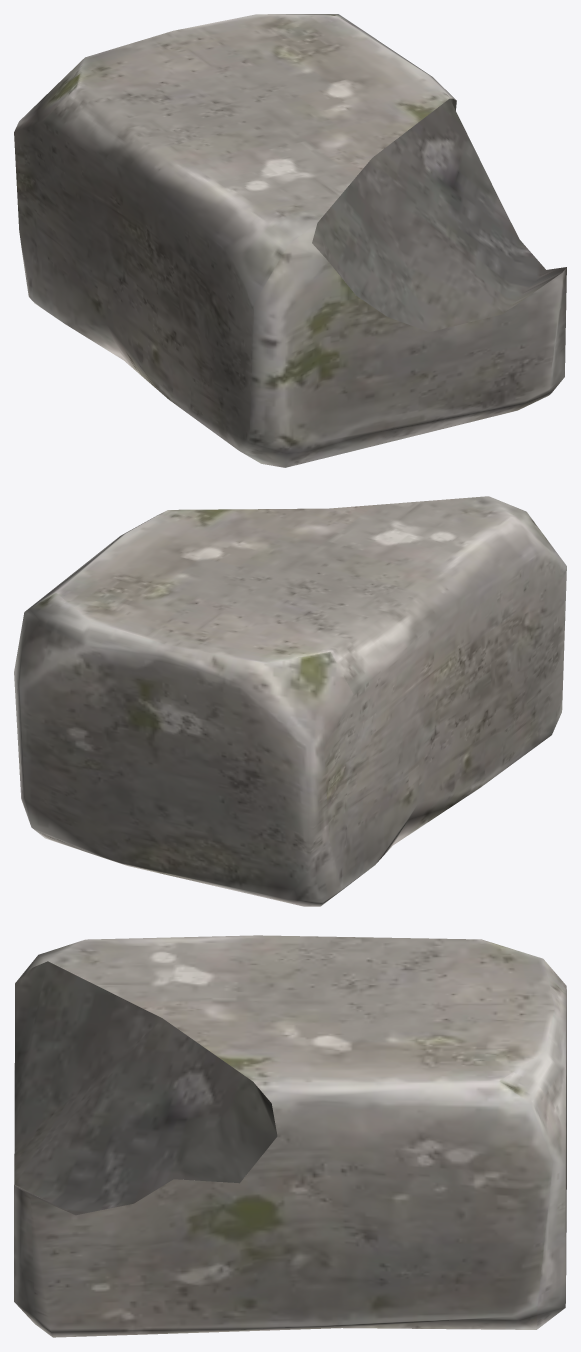
3 views of the same model, one above another, from view 1: azimuth 30°, elevation 25°; view 2: azimuth 150°, elevation 25°; view 3: azimuth 270°, elevation 25° (orthographic). The views are drawn at different scales.
Visible parts, largest first — view 1: SM_Castle_Floor_Stone_01_Dmg_v10_LOD0; view 2: SM_Castle_Floor_Stone_01_Dmg_v10_LOD0; view 3: SM_Castle_Floor_Stone_01_Dmg_v10_LOD0.
Boxes of the visible parts, bbox=[...] form: SM_Castle_Floor_Stone_01_Dmg_v10_LOD0: bbox=[14, 14, 566, 467]; SM_Castle_Floor_Stone_01_Dmg_v10_LOD0: bbox=[14, 496, 566, 906]; SM_Castle_Floor_Stone_01_Dmg_v10_LOD0: bbox=[14, 935, 566, 1337].
Bounding box in the file's own units: 0.6215 × 0.4385 × 0.8715.
2 materials, 2 textured.
